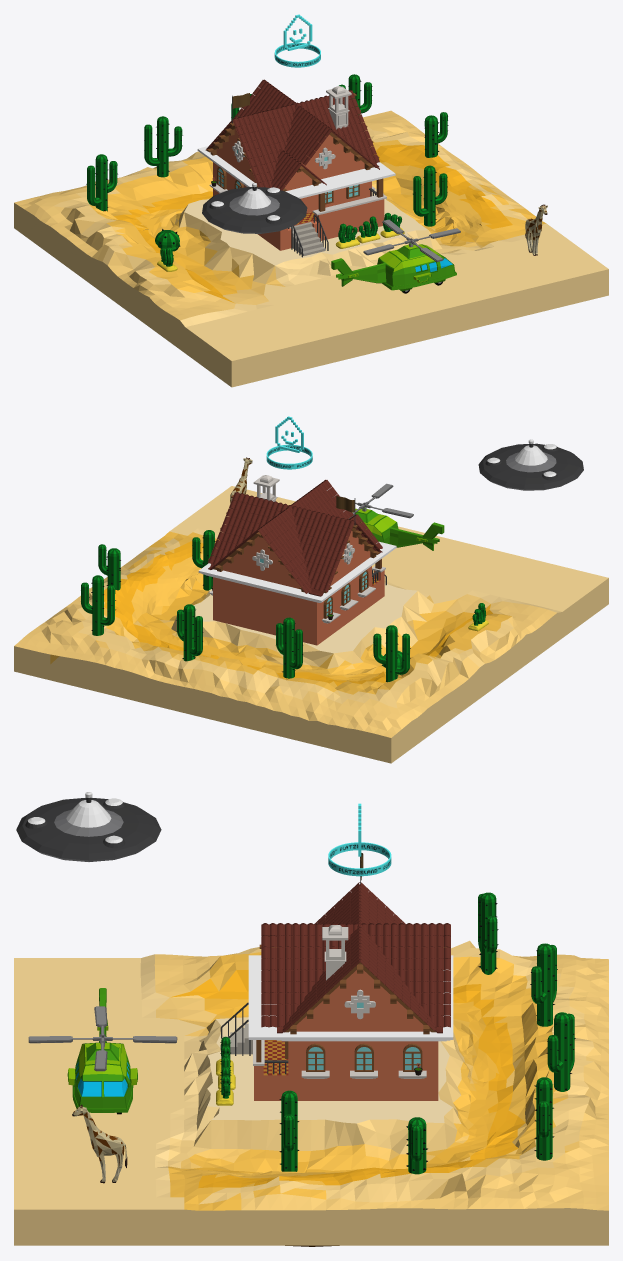
3 views of the same model, one above another, from view 1: azimuth 30°, elevation 25°; view 2: azimuth 150°, elevation 25°; view 3: azimuth 270°, elevation 25° (orthographic). The views are drawn at different scales.
Parts seen in each view (by area): view 1: Cube.001, Cube.1141, VEHICLES_HELICOPTER, OBJRANDOM_UFO, Cylinder.044, Cylinder.037, Cylinder.045, TYPE_PREMIUM, Cylinder.038, ANIMAL_JIRAFA, Cylinder.042; view 2: Cube.001, Cube.1141, OBJRANDOM_UFO, VEHICLES_HELICOPTER, Cylinder.042, Cylinder.045, Cylinder.044, Cylinder.043, TYPE_PREMIUM, Cylinder.038, Cylinder.037; view 3: Cube.001, Cube.1141, OBJRANDOM_UFO, VEHICLES_HELICOPTER, Cylinder.043, Cylinder.044, Cylinder.045, Cylinder.042, Cylinder.037, ANIMAL_JIRAFA, TYPE_PREMIUM, Cylinder.038.
Part boxes in pixels (box(x1,y1,x2,y2)): Cube.001: box(14, 110, 608, 387); Cube.1141: box(197, 79, 395, 257); VEHICLES_HELICOPTER: box(331, 219, 460, 293); OBJRANDOM_UFO: box(202, 183, 307, 233); Cylinder.044: box(144, 116, 182, 177); Cylinder.037: box(413, 165, 447, 226); Cylinder.045: box(86, 154, 117, 211); TYPE_PREMIUM: box(274, 14, 320, 67); Cylinder.038: box(424, 112, 448, 157); ANIMAL_JIRAFA: box(525, 204, 547, 255); Cylinder.042: box(339, 74, 372, 114); Cube.001: box(14, 486, 608, 763); Cube.1141: box(198, 475, 396, 645); OBJRANDOM_UFO: box(478, 439, 583, 490); VEHICLES_HELICOPTER: box(332, 483, 444, 550); Cylinder.042: box(81, 575, 115, 635); Cylinder.045: box(373, 625, 410, 682); Cylinder.044: box(276, 617, 302, 678); Cylinder.043: box(176, 604, 203, 661); TYPE_PREMIUM: box(266, 416, 312, 469); Cylinder.038: box(98, 544, 120, 590); Cylinder.037: box(192, 530, 215, 590); Cube.001: box(14, 940, 608, 1245); Cube.1141: box(220, 853, 453, 1100); OBJRANDOM_UFO: box(16, 792, 161, 861); VEHICLES_HELICOPTER: box(28, 988, 177, 1114); Cylinder.043: box(546, 1012, 575, 1091); Cylinder.044: box(530, 943, 557, 1026); Cylinder.045: box(478, 892, 498, 974); Cylinder.042: box(534, 1077, 554, 1160); Cylinder.037: box(279, 1090, 299, 1171); ANIMAL_JIRAFA: box(72, 1104, 127, 1183); TYPE_PREMIUM: box(328, 803, 391, 876); Cylinder.038: box(406, 1117, 427, 1174).
Size of the model in its own units: 4002 by 2504 by 4001.
Materials: 45 (3 with a texture image).
